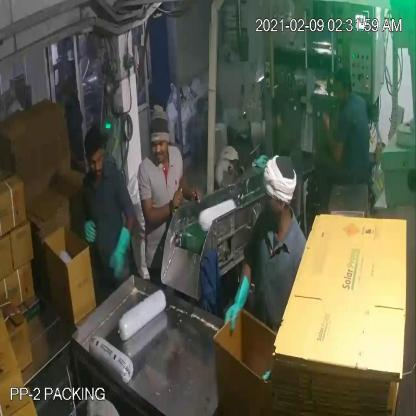glove: (219, 274, 255, 338), (108, 222, 136, 281), (80, 212, 101, 254)
no_glove: (139, 186, 186, 232), (315, 114, 348, 164), (176, 176, 207, 217)
